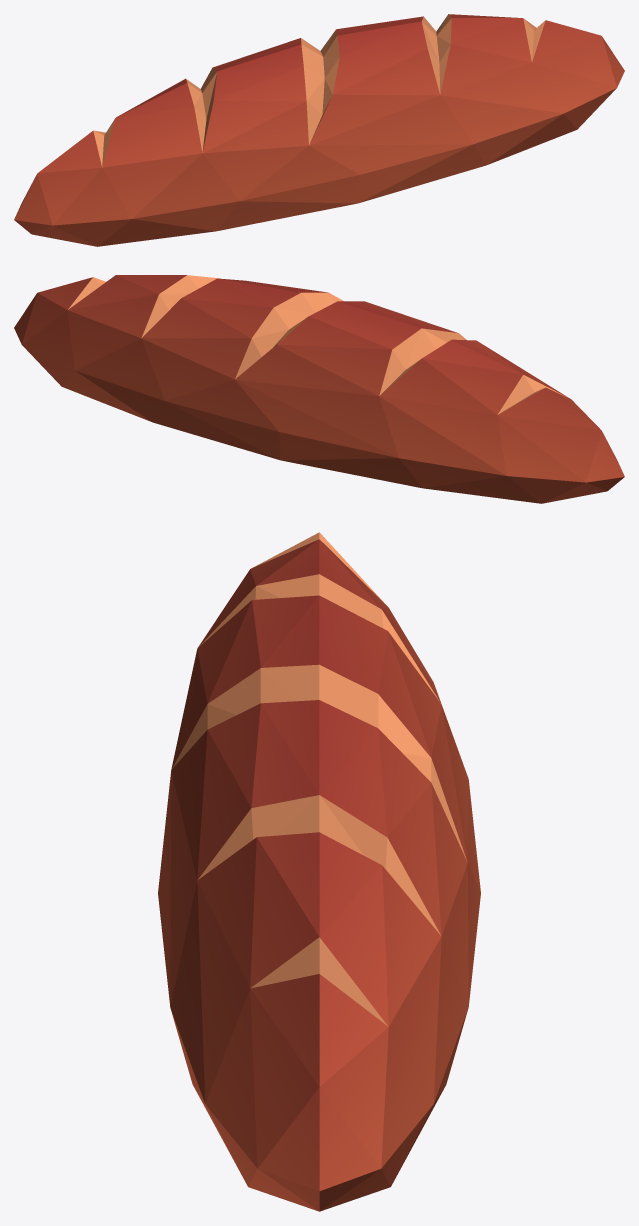
Rendered from baguette.FBX.
3 renders of one model, top to bottom at view 1: azimuth 30°, elevation 25°; view 2: azimuth 150°, elevation 25°; view 3: azimuth 270°, elevation 25°, orthographic. The views are drawn at different scales.
Parts seen in each view (by area): view 1: baguette; view 2: baguette; view 3: baguette.
Part boxes in pixels (bbox=[...]): baguette: bbox=[14, 14, 624, 246]; baguette: bbox=[14, 275, 624, 503]; baguette: bbox=[158, 532, 480, 1211].
Bounding box in the file's own units: 6.27 × 1.33 × 1.44.
